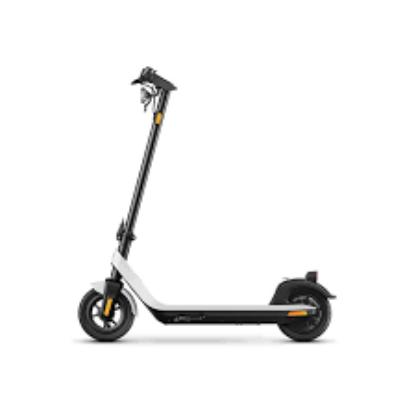bike: (76, 65, 337, 344)
car: (76, 66, 336, 344)
